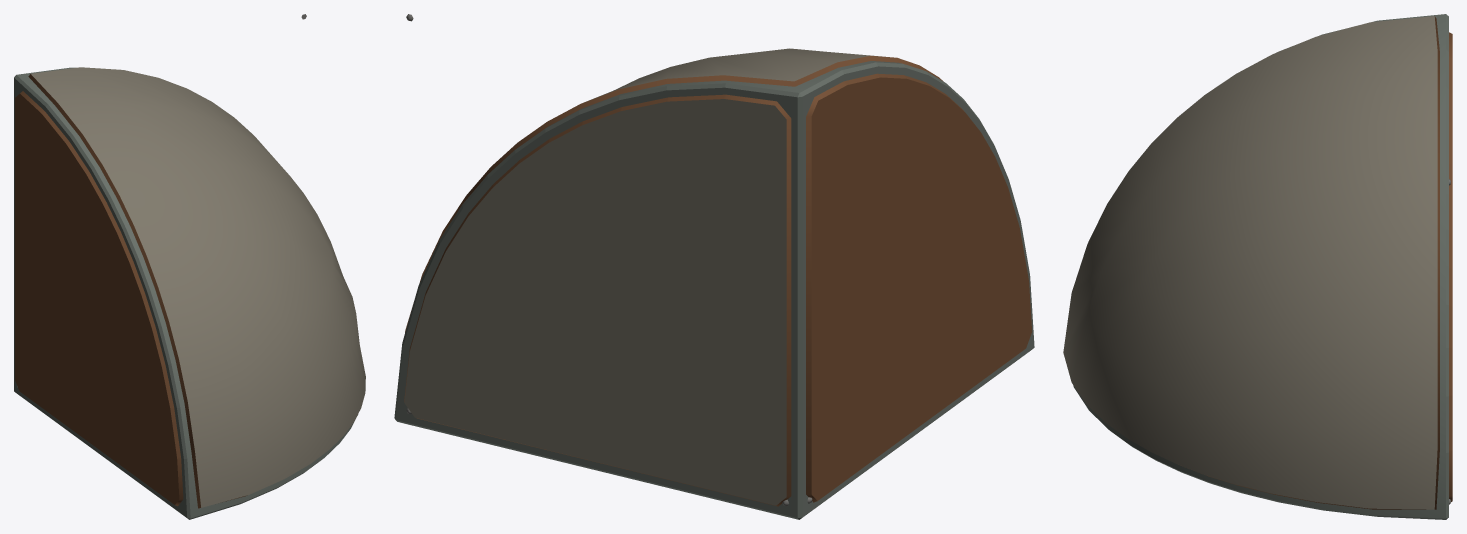
The model's file is R4B_RoundCorner.fbx.
3 renders of one model, left to right at view 1: azimuth 30°, elevation 25°; view 2: azimuth 150°, elevation 25°; view 3: azimuth 270°, elevation 25°, orthographic. The views are drawn at different scales.
Parts seen in each view (by area): view 1: R4B_RoundCorner; view 2: R4B_RoundCorner; view 3: R4B_RoundCorner.
Part boxes in pixels (x1=…): R4B_RoundCorner: x1=14, y1=14, x2=365, y2=519; R4B_RoundCorner: x1=394, y1=14, x2=1034, y2=519; R4B_RoundCorner: x1=1063, y1=14, x2=1452, y2=519.
Bounding box in the file's own units: 0.5139 × 0.5139 × 0.5139.
